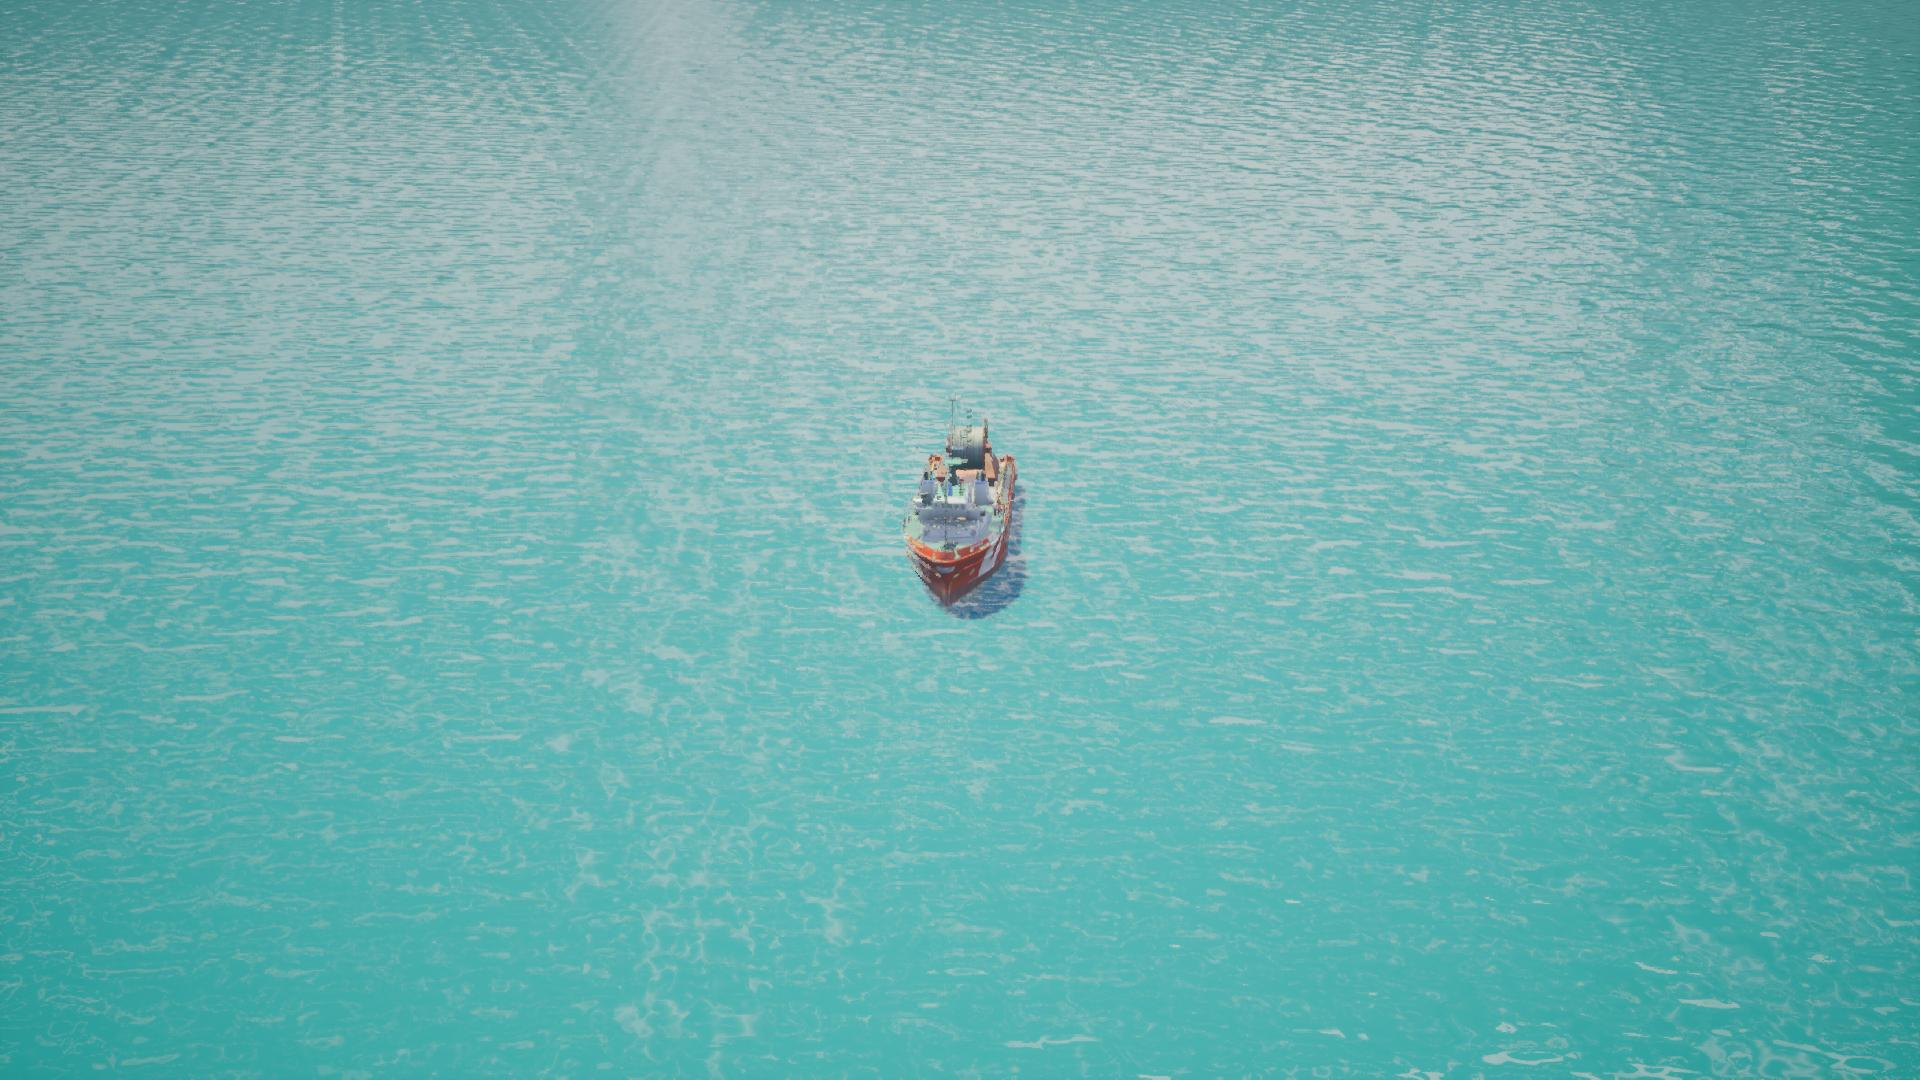Tug Boat: (901, 418, 1019, 620)
